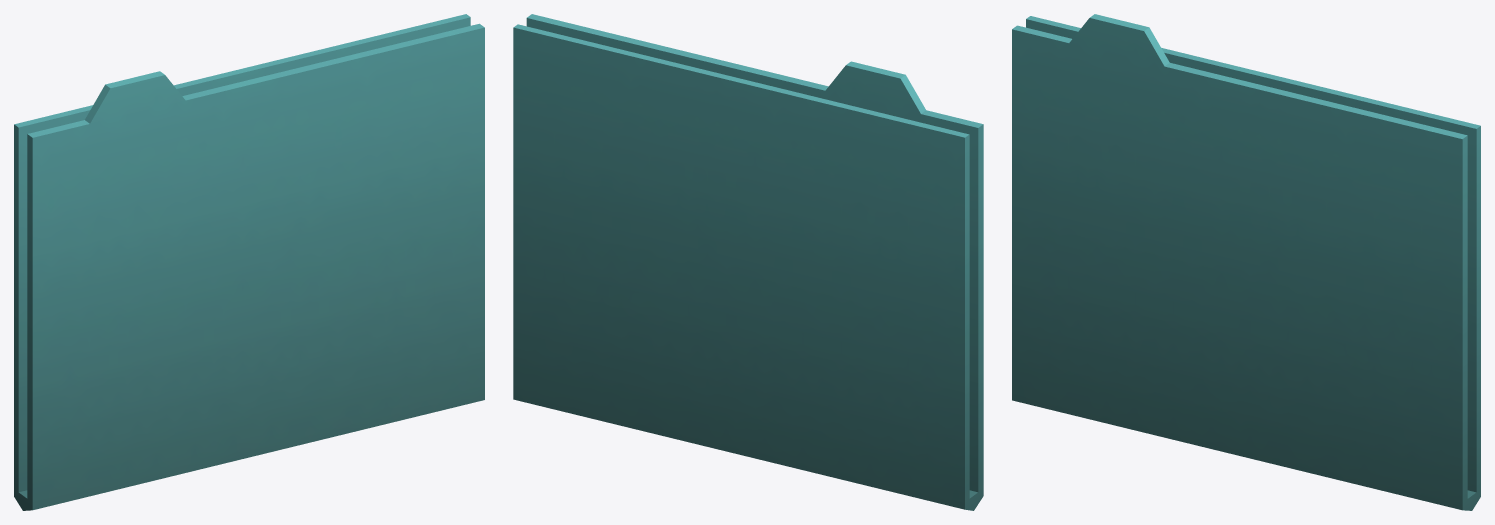
Rendered from Paper_FilingFolder_Blue.fbx.
The picture shows the model from 3 angles, left to right: view 1: azimuth 30°, elevation 25°; view 2: azimuth 150°, elevation 25°; view 3: azimuth 330°, elevation 25°; orthographic projection.
Parts seen in each view (by area): view 1: Paper_FilingFolder_Blue; view 2: Paper_FilingFolder_Blue; view 3: Paper_FilingFolder_Blue.
Boxes of the visible parts, x1,y1,x2,y2 form: Paper_FilingFolder_Blue: [14, 14, 484, 510]; Paper_FilingFolder_Blue: [513, 14, 983, 510]; Paper_FilingFolder_Blue: [1012, 14, 1480, 510].
Bounding box in the file's own units: 30.06 × 26.09 × 2.13.
